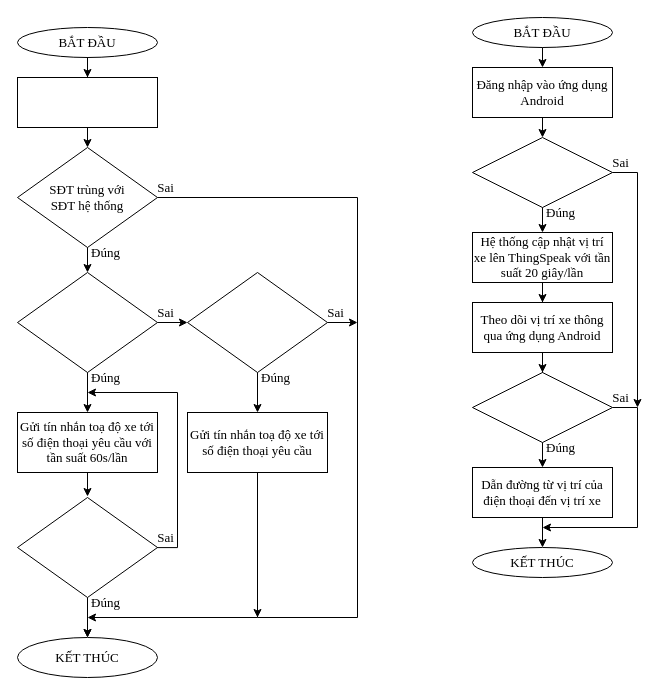
The diagram is 663 pixels wide and 695 high, and some of its shapes have lost their labels. The centre of each missing label's shape, as x and y in pixels:
Chức năng dẫn đường được bật: the point at 542,407
Nội dung tin nhắn là cú pháp gửi vị trí xe: the point at 257,322
Nội dung tin nhắn là cú pháp huỷ theo dõi xe: the point at 87,547
Nội dung tin nhắn là cú pháp theo dõi xe: the point at 87,322
Trích xuất nội dung và SĐT của tin nhắn mới gửi đến hệ thống: the point at 87,102
Đăng nhập thành công: the point at 542,172
